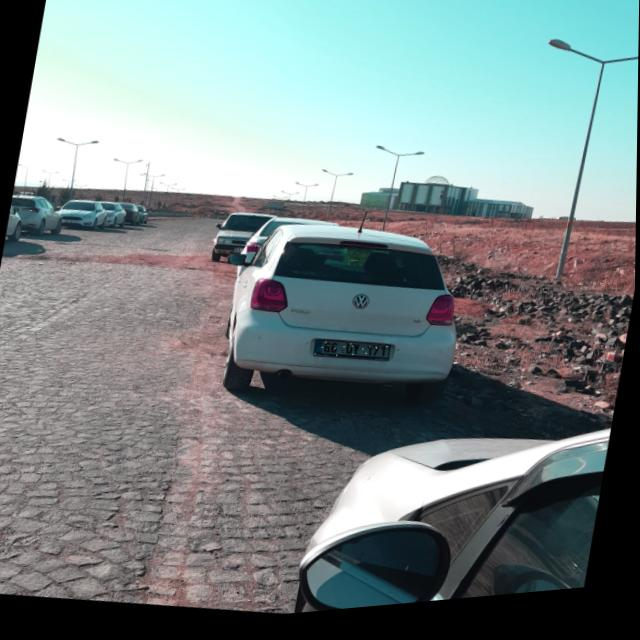license_plate: (315, 341, 392, 372)
